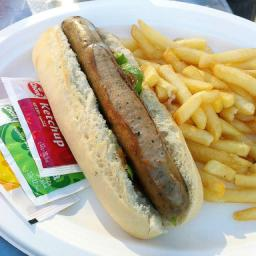hotdog: (57, 14, 190, 226)
